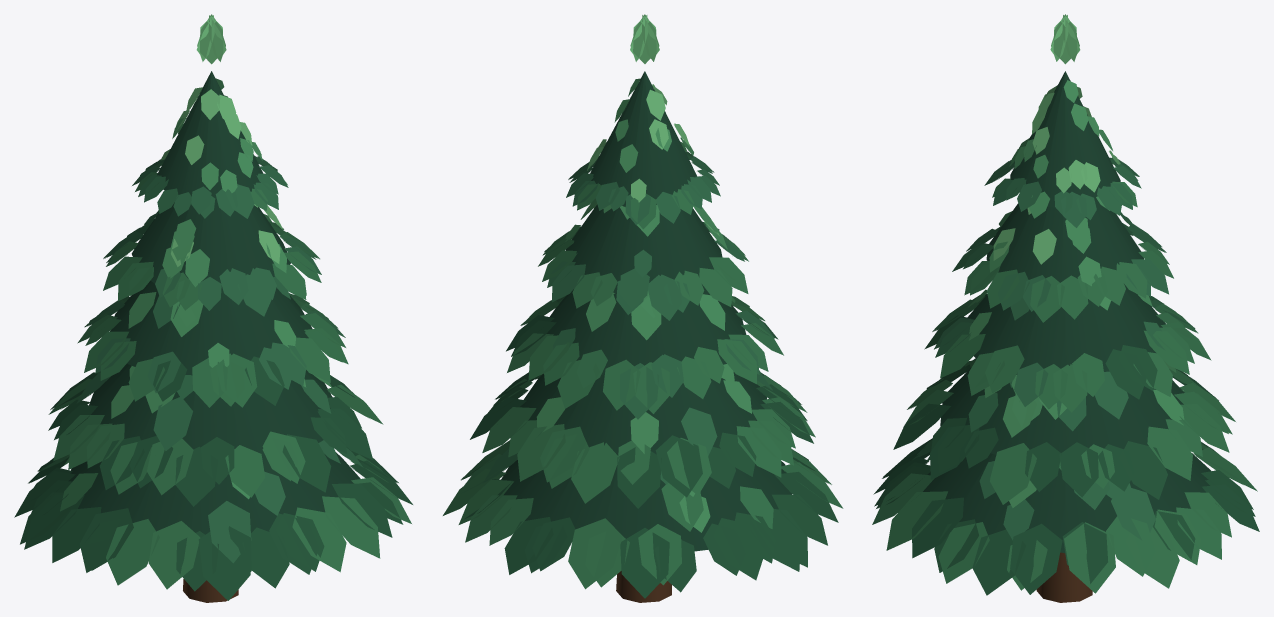
The model's file is TreePine.glb.
3 views of the same model, side by side, from view 1: azimuth 30°, elevation 25°; view 2: azimuth 150°, elevation 25°; view 3: azimuth 270°, elevation 25° (orthographic).
Parts seen in each view (by area): view 1: Sway; view 2: Sway; view 3: Sway.
Part boxes in pixels (x1,y1,x2,y2): Sway: (14, 14, 412, 602); Sway: (443, 14, 843, 602); Sway: (872, 14, 1259, 602).
Bounding box in the file's own units: 8.58 × 13.67 × 8.35.
Materials: 1 (1 with a texture image).
